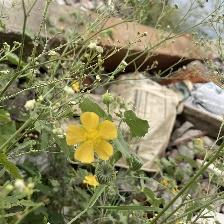indian mallow: (66, 111, 119, 166)
